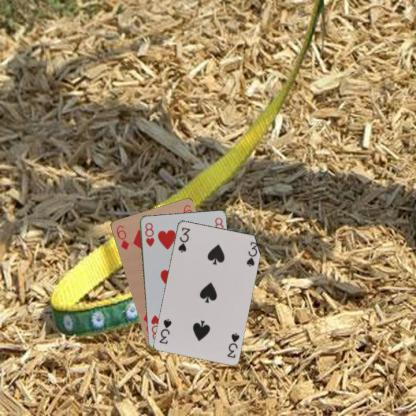3s: (175, 224, 191, 254), (224, 330, 240, 359)
6d: (114, 222, 130, 251)
8h: (142, 220, 156, 248)
